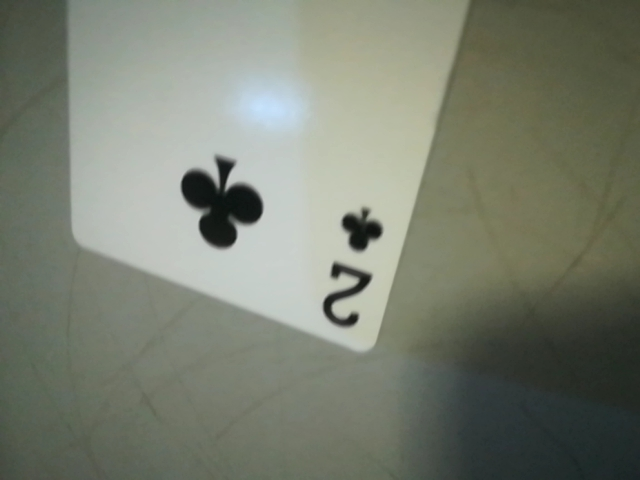mh 2: (309, 191, 392, 351)
